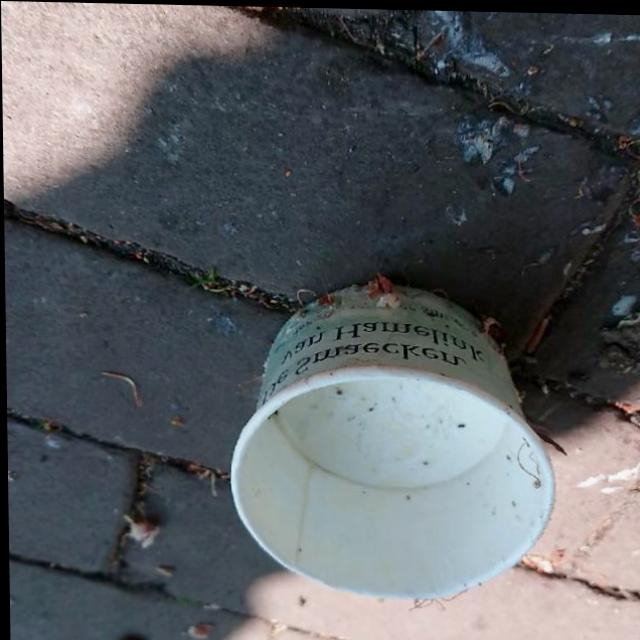Paper: (222, 270, 559, 606)
